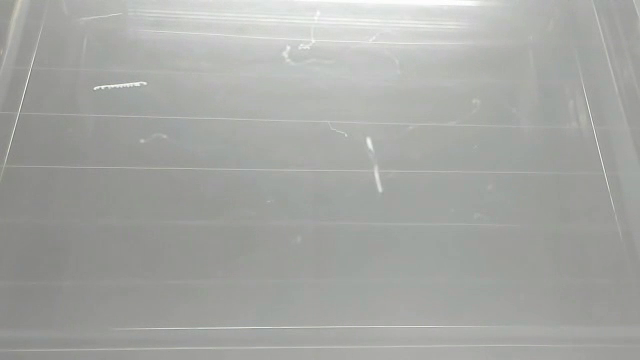alpha: (361, 133, 389, 194), (90, 78, 151, 93), (77, 10, 124, 23)
